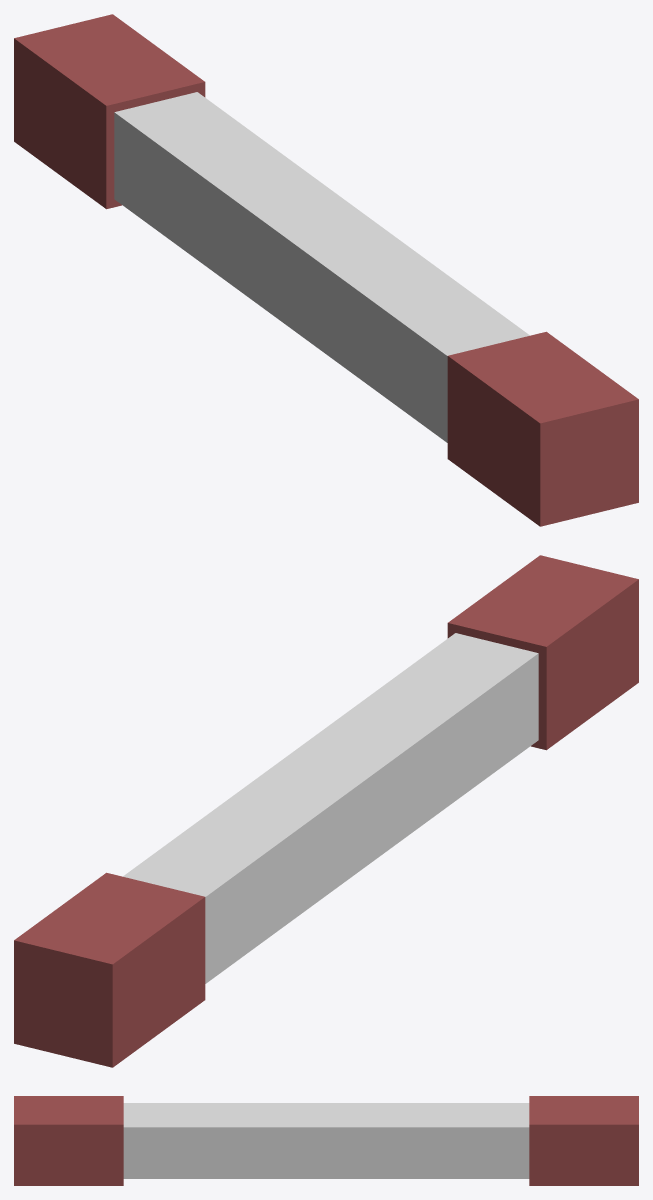
File: 2fuseShikakuRed.fbx
3 renders of one model, top to bottom at view 1: azimuth 30°, elevation 25°; view 2: azimuth 150°, elevation 25°; view 3: azimuth 270°, elevation 25°, orthographic. The views are drawn at different scales.
Parts seen in each view (by area): view 1: 立方体; view 2: 立方体; view 3: 立方体.
Part boxes in pixels (x1,y1,x2,y2): 立方体: [14, 14, 638, 526]; 立方体: [14, 555, 638, 1067]; 立方体: [14, 1096, 638, 1185].
Size of the model in its own units: 238 by 238 by 2193.
